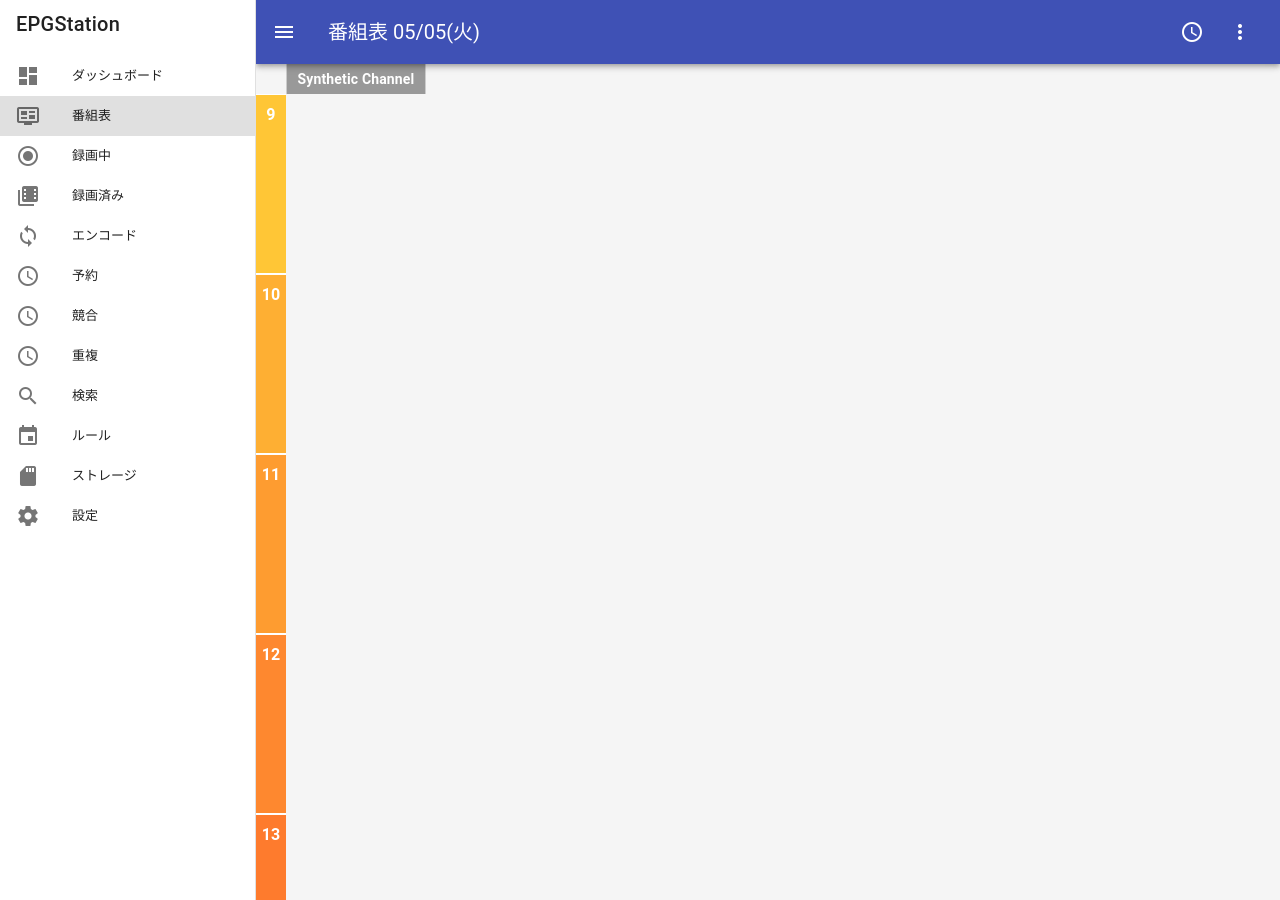
Test case: Guide navigation overlay dismissal (Escape/cancel) without selecting a value › [AC 3.33] [AC 3.7] closes the day-select dialog on Escape without navigating and removes it from the DOM
The width and height of the screenshot is (1280, 900).
Expected: the element with test id "guide-page" is shown, [256,64,426,899]
Click the heading "番組表 05/05(火)" at [394, 32], box [308,17,480,47]
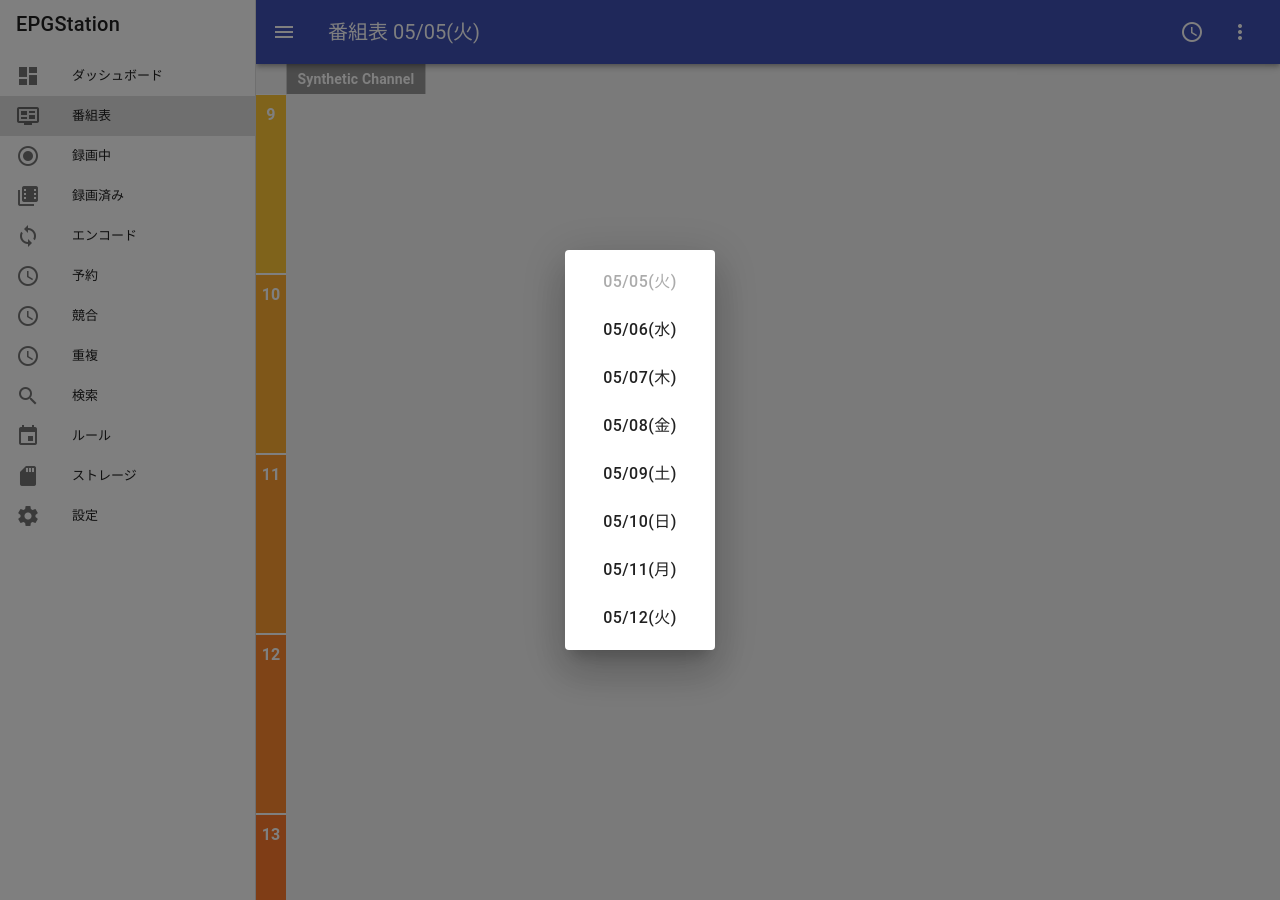
Press Escape in the dialog, box [565,250,715,650]
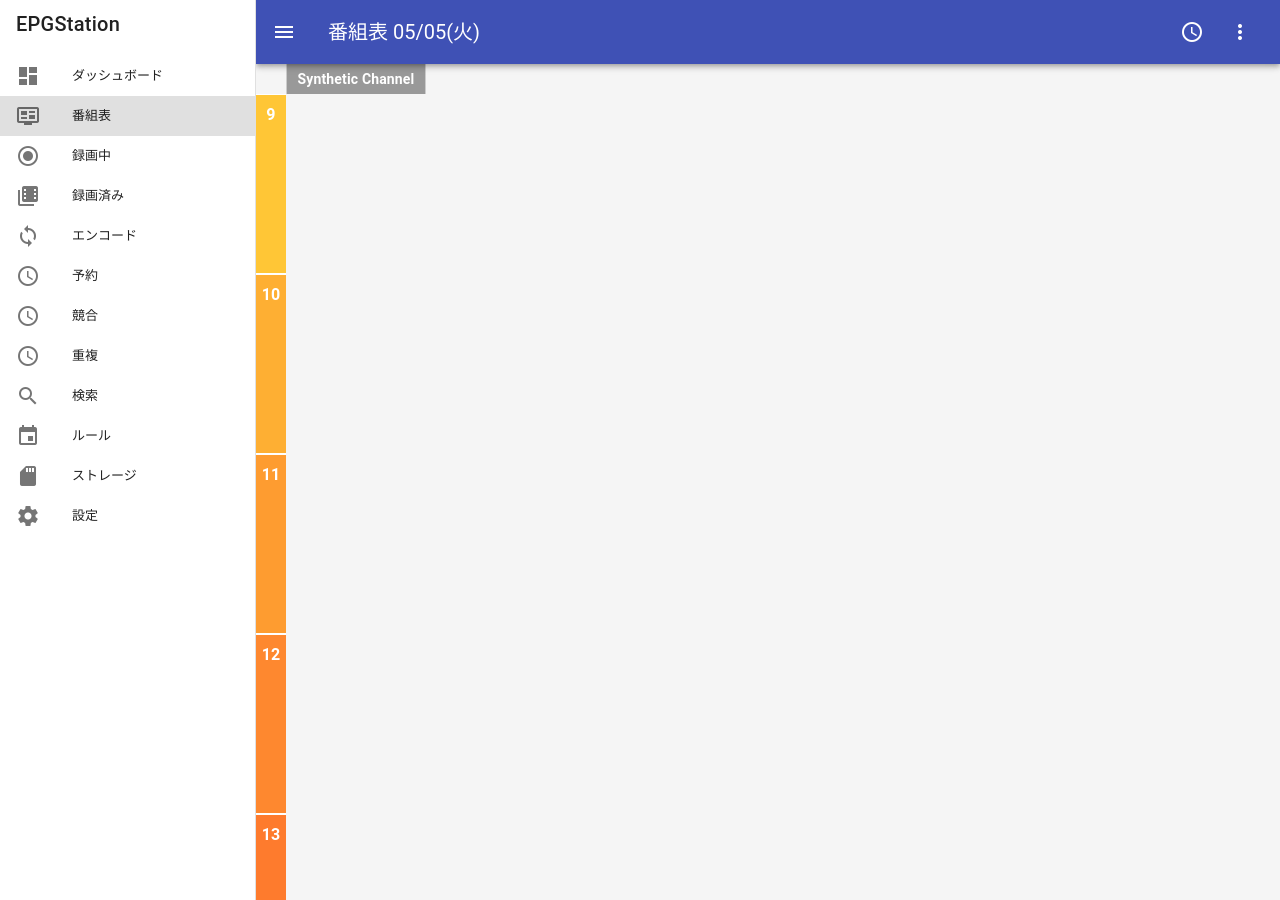
Now the dialog is gone
